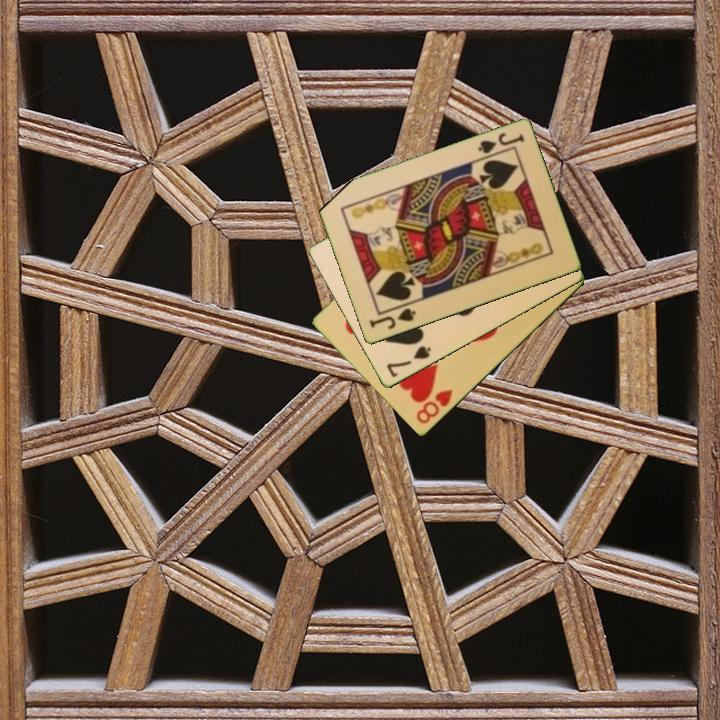7s: (383, 342, 434, 381)
8h: (413, 386, 456, 427)
Js: (366, 305, 419, 333), (474, 129, 527, 157)
